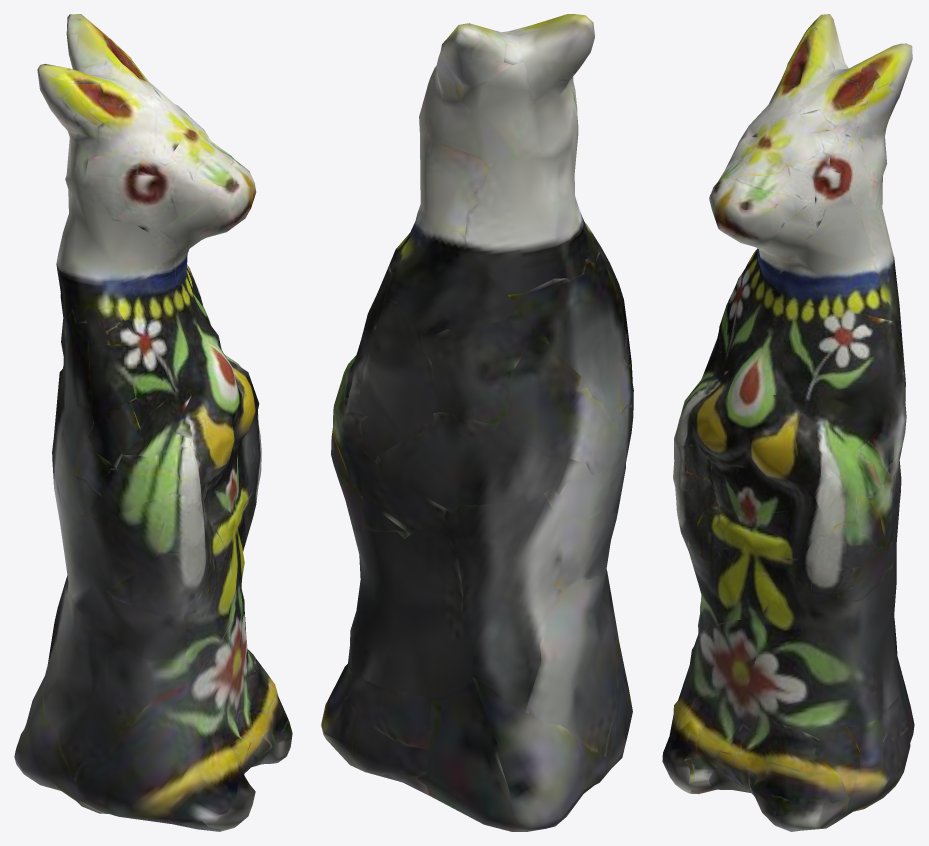
File: hall.glb
The picture shows the model from 3 angles, left to right: view 1: azimuth 30°, elevation 25°; view 2: azimuth 150°, elevation 25°; view 3: azimuth 270°, elevation 25°; orthographic projection. The views are drawn at different scales.
Bounding box in the file's own units: 0.2849 × 0.853 × 0.2678.
1 material, 1 textured.
